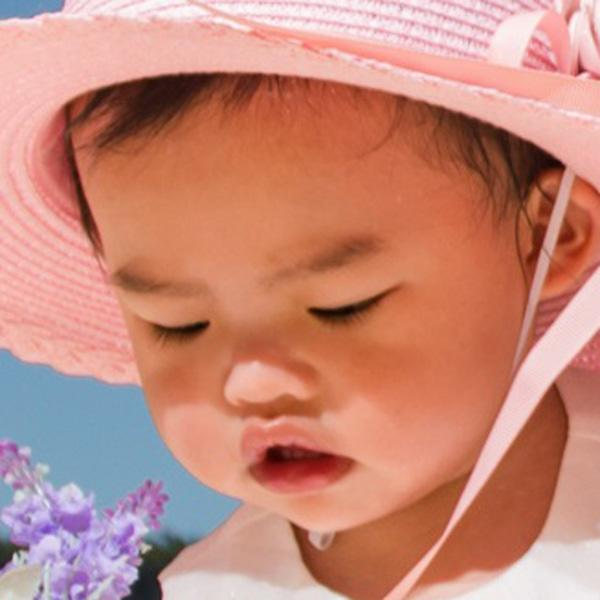Eyes: (301, 271, 406, 340), (126, 298, 217, 355)
